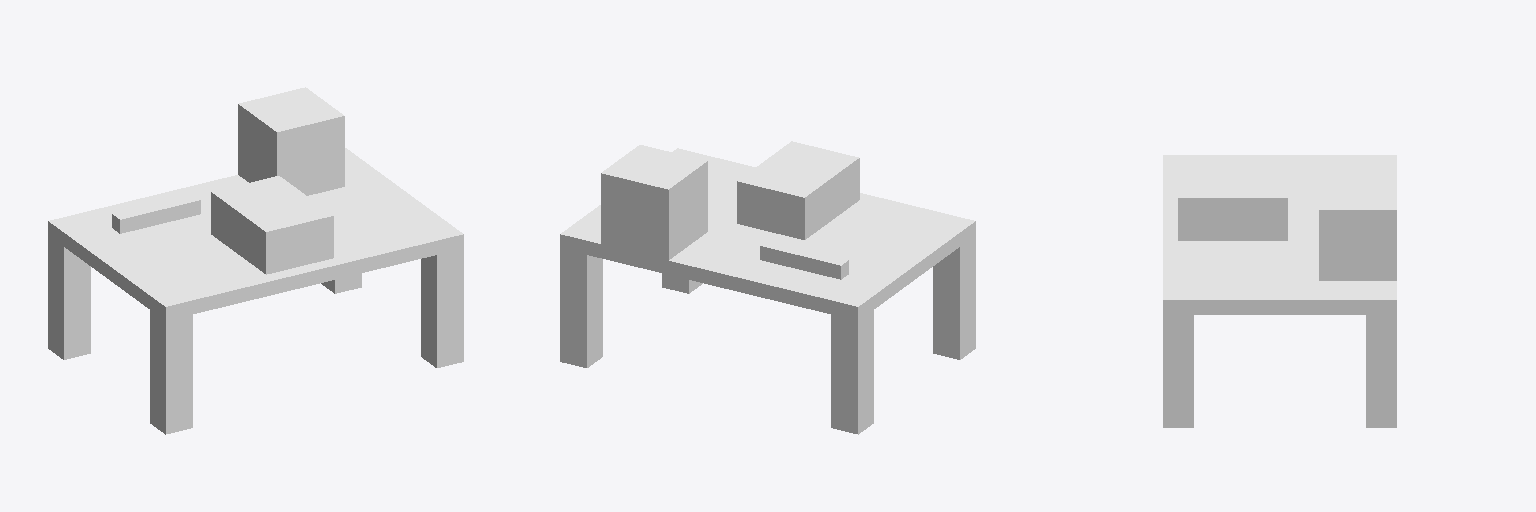
Rendered from desk.obj.
3 views of the same model, side by side, from view 1: azimuth 30°, elevation 25°; view 2: azimuth 150°, elevation 25°; view 3: azimuth 270°, elevation 25° (orthographic).
Visible parts, largest first — view 1: object 1; view 2: object 1; view 3: object 1.
Boxes of the visible parts, x1,y1,x2,y2 form: object 1: [48, 87, 463, 434]; object 1: [560, 141, 975, 434]; object 1: [1163, 155, 1396, 427].
Bounding box in the file's own units: 2.2 × 1.4 × 1.5.